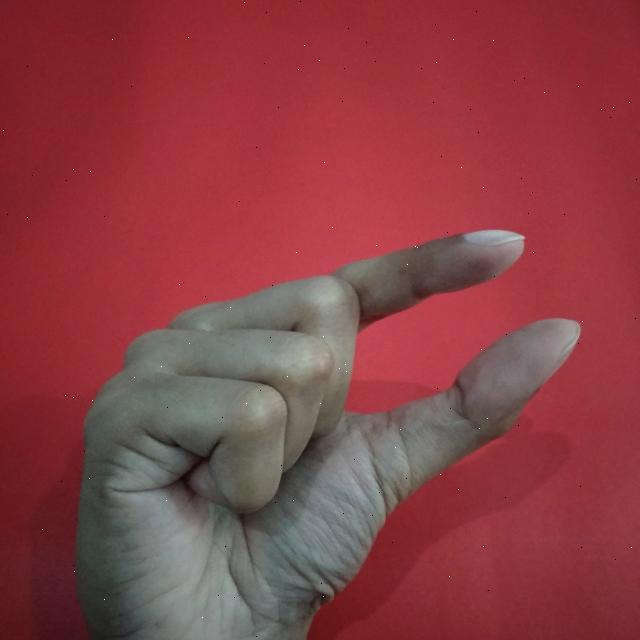G: (70, 223, 584, 640)
